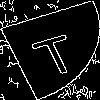T: (25, 25, 84, 79)
